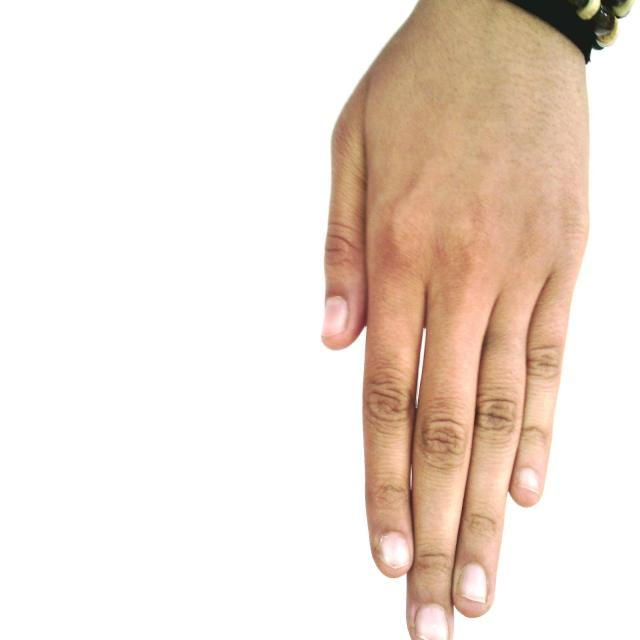Fingernail: (458, 564, 487, 603), (416, 605, 449, 639), (380, 533, 410, 568), (323, 298, 347, 336), (517, 469, 539, 493)
